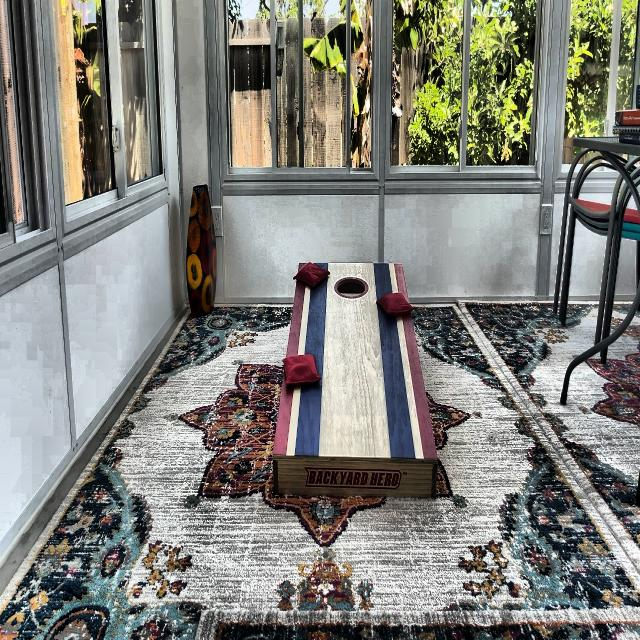board: (292, 264, 412, 458)
hole: (333, 275, 369, 299)
red-bean-bag: (283, 354, 320, 385), (376, 293, 416, 317), (292, 263, 330, 288)
